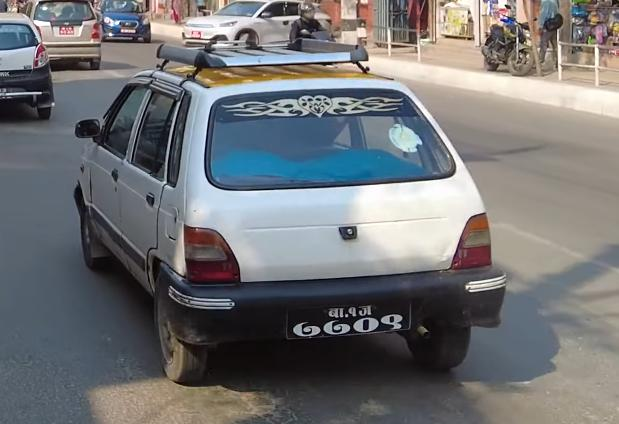bike: (479, 7, 541, 78)
car: (181, 0, 335, 47), (97, 0, 152, 42)
taxi: (56, 39, 502, 381), (0, 9, 58, 123)
